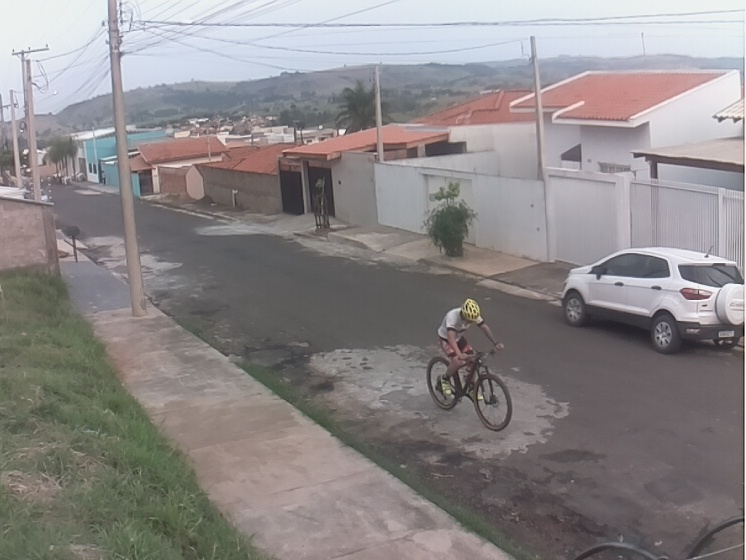person: (436, 299, 502, 396)
